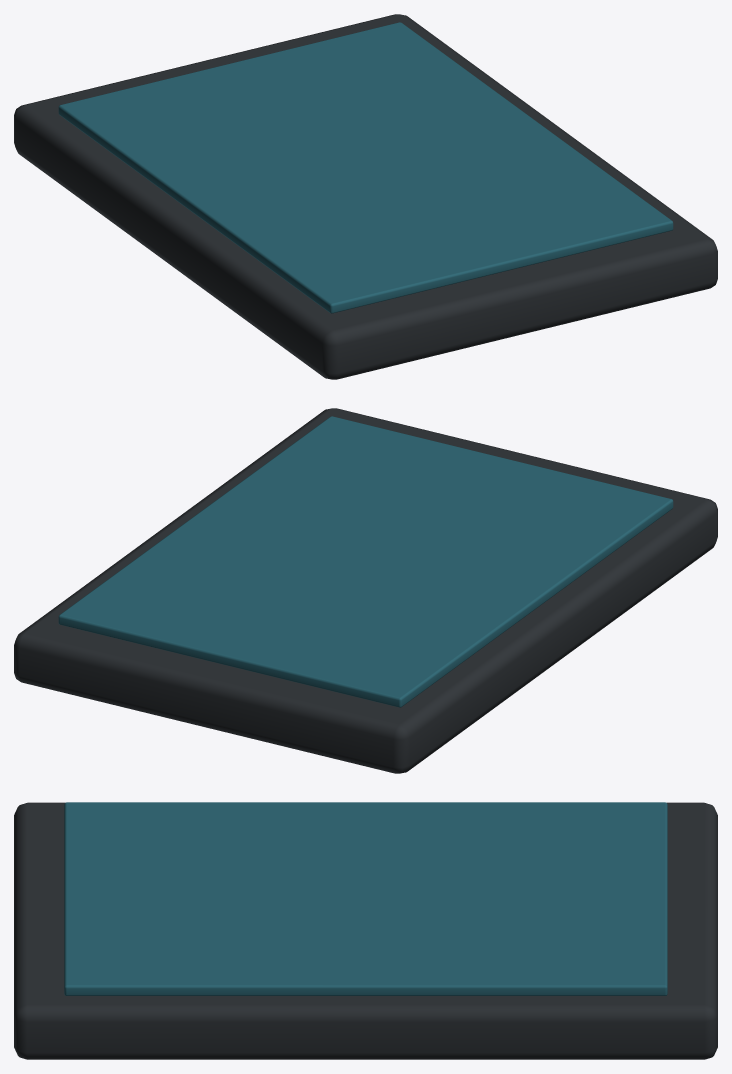
The model's file is Tablet.fbx.
3 views of the same model, one above another, from view 1: azimuth 30°, elevation 25°; view 2: azimuth 150°, elevation 25°; view 3: azimuth 270°, elevation 25° (orthographic). The views are drawn at different scales.
Parts seen in each view (by area): view 1: Tablet_Screen, Tablet_Rubber; view 2: Tablet_Screen, Tablet_Rubber; view 3: Tablet_Screen, Tablet_Rubber.
Boxes of the visible parts, x1,y1,x2,y2 form: Tablet_Screen: (58, 22, 673, 313); Tablet_Rubber: (14, 14, 717, 379); Tablet_Screen: (58, 416, 673, 707); Tablet_Rubber: (14, 408, 717, 773); Tablet_Screen: (64, 802, 667, 995); Tablet_Rubber: (14, 802, 717, 1059).
Bounding box in the file's own units: 20 × 2.85 × 28.
